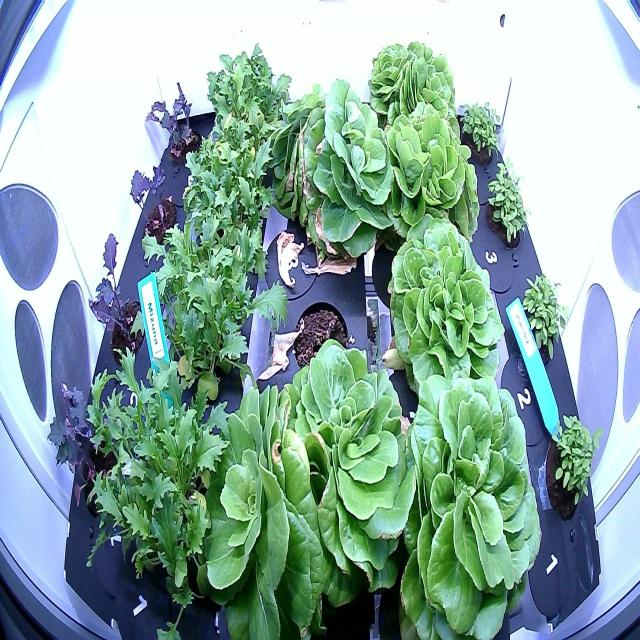Ready: (184, 354, 416, 639), (396, 366, 546, 640), (260, 66, 394, 266), (381, 203, 515, 393), (376, 86, 486, 262), (364, 32, 462, 142)
